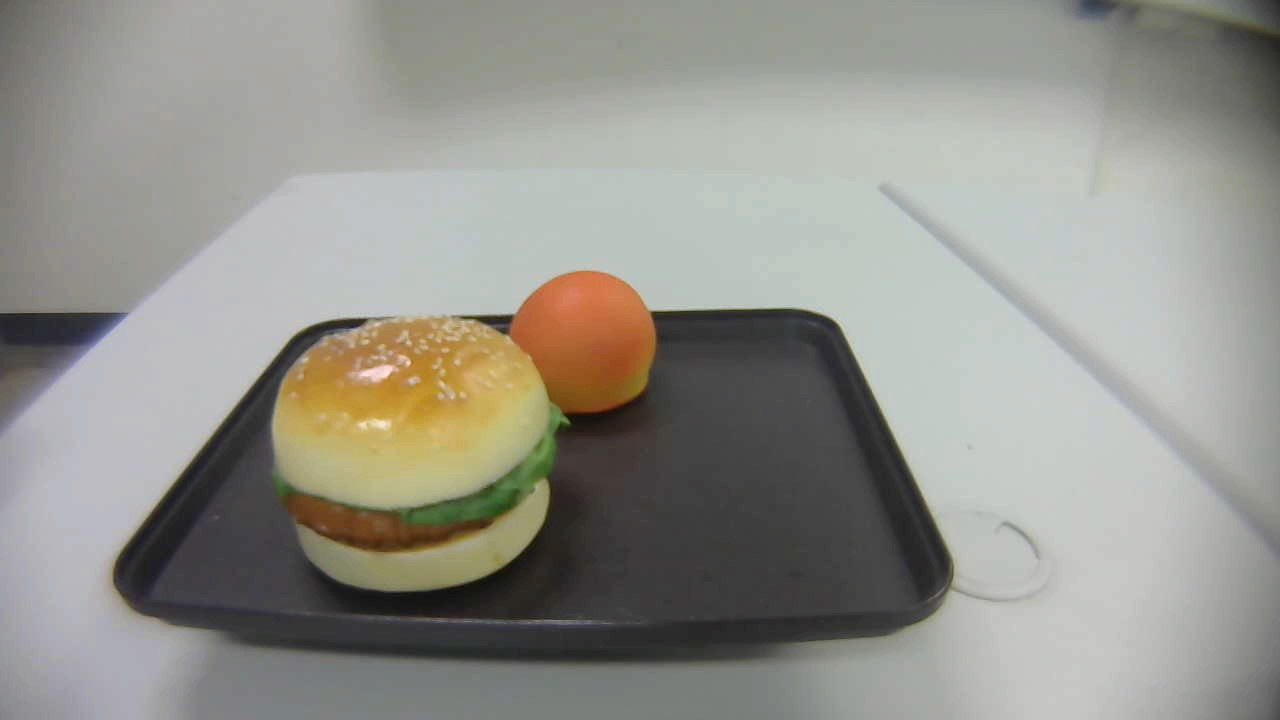bun: (507, 270, 656, 414)
hamburger: (271, 314, 570, 595)
